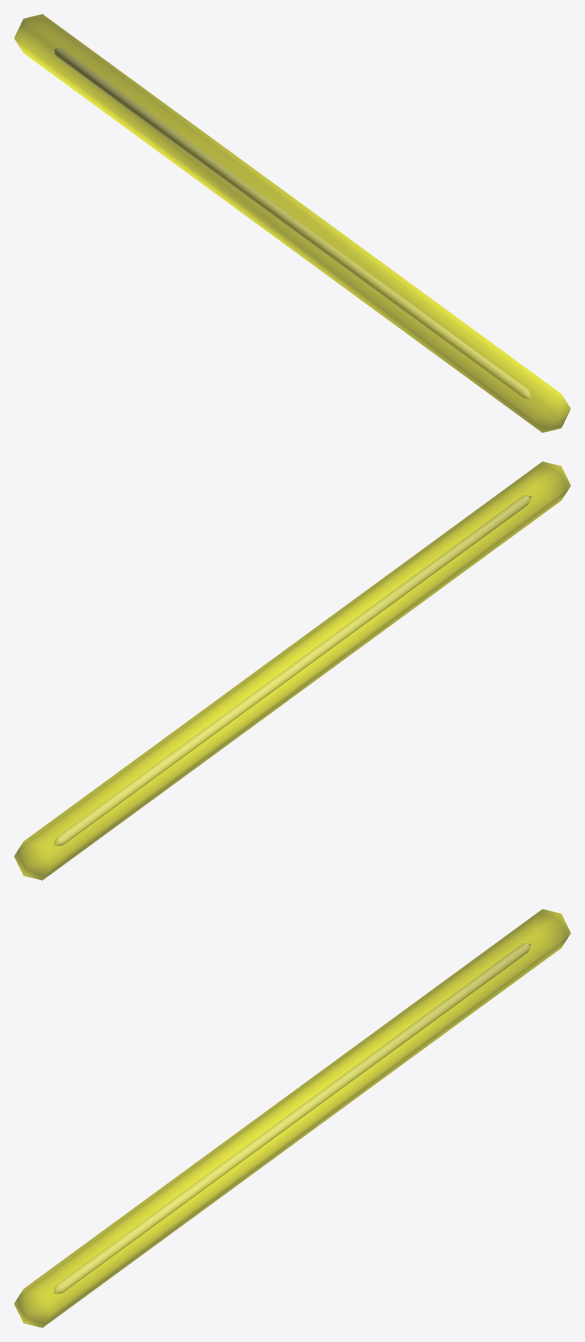
Rendered from yellow_laser_model.fbx.
3 views of the same model, one above another, from view 1: azimuth 30°, elevation 25°; view 2: azimuth 150°, elevation 25°; view 3: azimuth 330°, elevation 25° (orthographic).
Visible parts, largest first — view 1: glow, bolt; view 2: glow, bolt; view 3: glow, bolt.
Boxes of the visible parts, x1,y1,x2,y2 form: glow: (14,14,570,432); bolt: (54,48,531,398); glow: (14,461,570,880); bolt: (54,495,531,845); glow: (14,909,570,1327); bolt: (53,943,530,1293).
Size of the model in its own units: 3.15 by 2.73 by 76.43.
